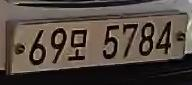4: (155, 18, 174, 57)
5: (100, 22, 120, 60)
6: (28, 27, 48, 67)
7: (120, 21, 139, 59)
8: (139, 20, 156, 56)
9: (49, 24, 68, 64)
모: (68, 26, 90, 63)
